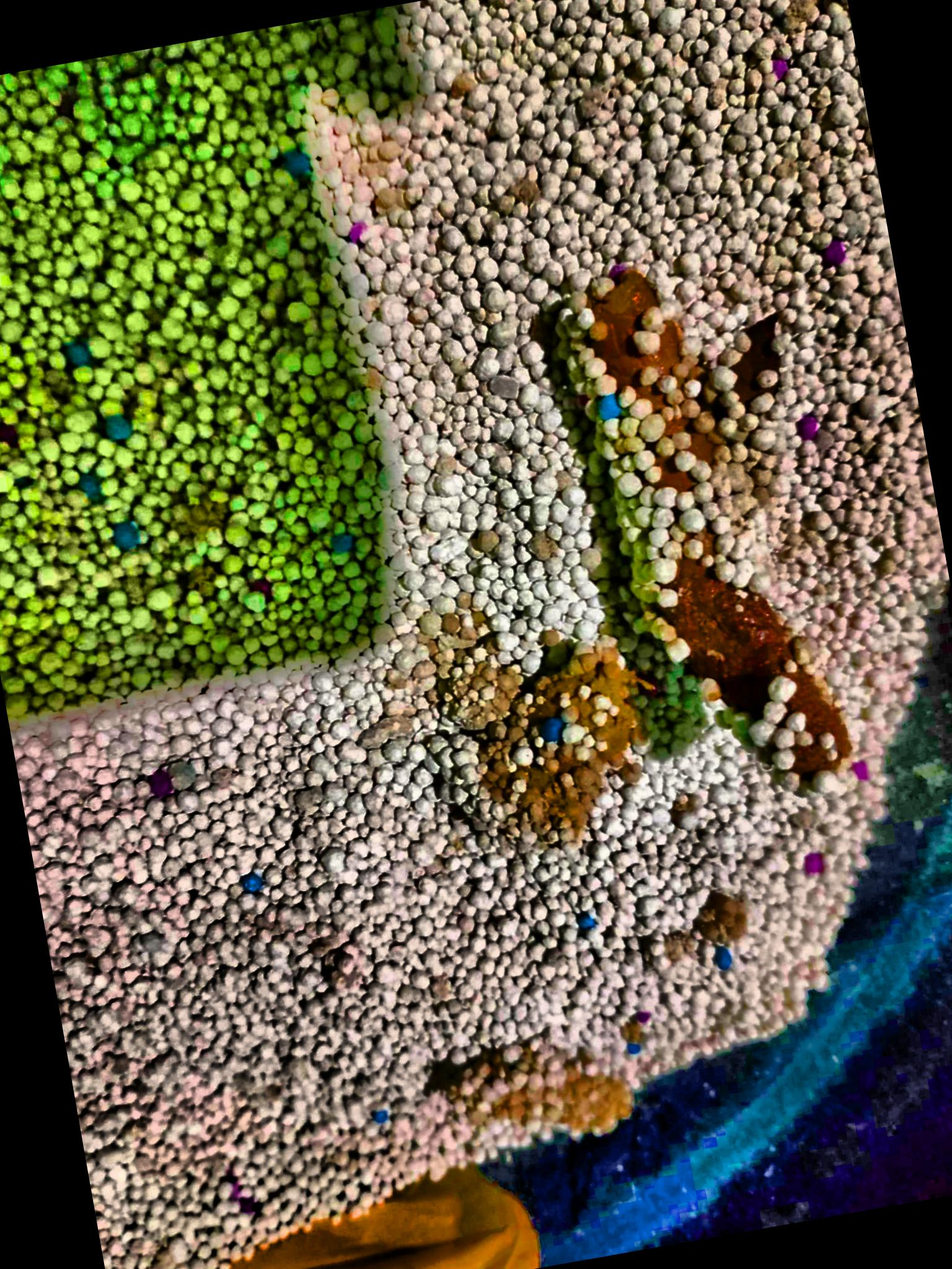litter_sand: (447, 1036, 632, 1135), (435, 635, 524, 729), (661, 890, 754, 972)
poop: (554, 262, 855, 802), (424, 633, 663, 860)
